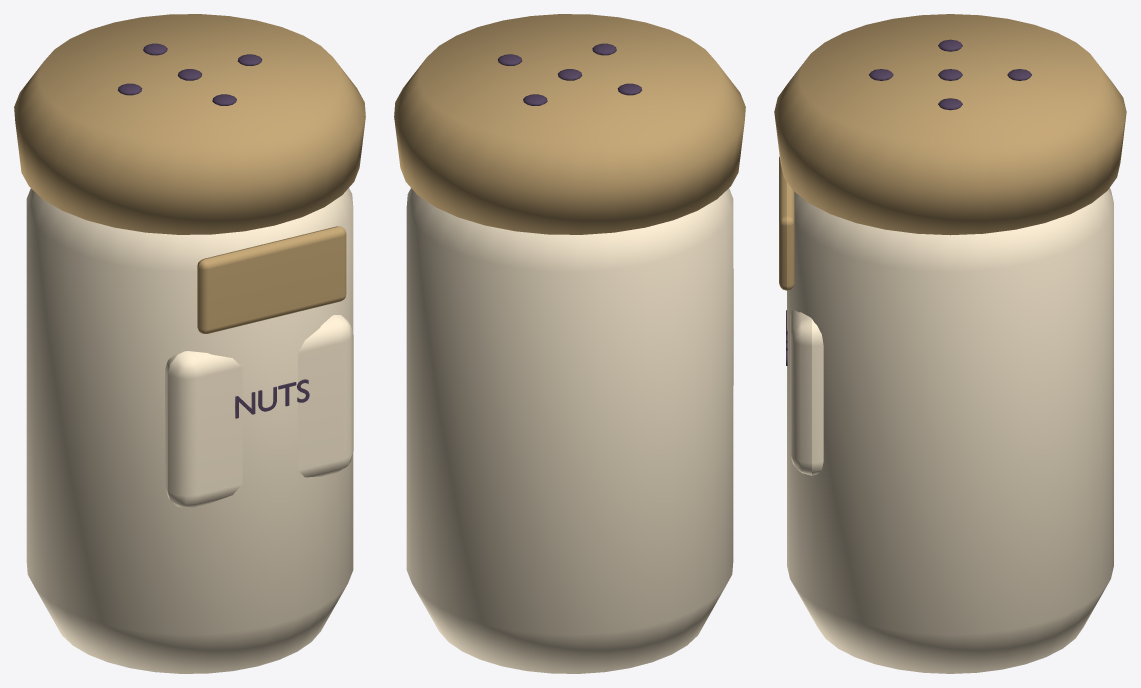
Rendered from Chopped_nuts_dispenser.fbx.
3 renders of one model, left to right at view 1: azimuth 30°, elevation 25°; view 2: azimuth 150°, elevation 25°; view 3: azimuth 270°, elevation 25°, orthographic.
Parts seen in each view (by area): view 1: Toon_Chopped_nuts_dispenser Shaker jar.001, Toon_Chopped_nuts_dispenser Colored lid.001, Toon_Chopped_nuts_dispenser Bottle label.001, Toon_Chopped_nuts_dispenser Contents window.001, Bottle name.007; view 2: Toon_Chopped_nuts_dispenser Shaker jar.001, Toon_Chopped_nuts_dispenser Colored lid.001; view 3: Toon_Chopped_nuts_dispenser Shaker jar.001, Toon_Chopped_nuts_dispenser Colored lid.001, Toon_Chopped_nuts_dispenser Bottle label.001, Toon_Chopped_nuts_dispenser Contents window.001.
Boxes of the visible parts, x1,y1,x2,y2 form: Toon_Chopped_nuts_dispenser Shaker jar.001: [26, 188, 353, 673]; Toon_Chopped_nuts_dispenser Colored lid.001: [14, 14, 365, 234]; Toon_Chopped_nuts_dispenser Bottle label.001: [165, 314, 353, 508]; Toon_Chopped_nuts_dispenser Contents window.001: [197, 226, 346, 333]; Bottle name.007: [235, 379, 309, 418]; Toon_Chopped_nuts_dispenser Shaker jar.001: [406, 188, 733, 673]; Toon_Chopped_nuts_dispenser Colored lid.001: [394, 14, 745, 234]; Toon_Chopped_nuts_dispenser Shaker jar.001: [787, 188, 1113, 673]; Toon_Chopped_nuts_dispenser Colored lid.001: [774, 14, 1126, 235]; Toon_Chopped_nuts_dispenser Bottle label.001: [790, 309, 823, 475]; Toon_Chopped_nuts_dispenser Contents window.001: [779, 156, 794, 290].
Bounding box in the file's own units: 11.2 × 19.1 × 11.2.
